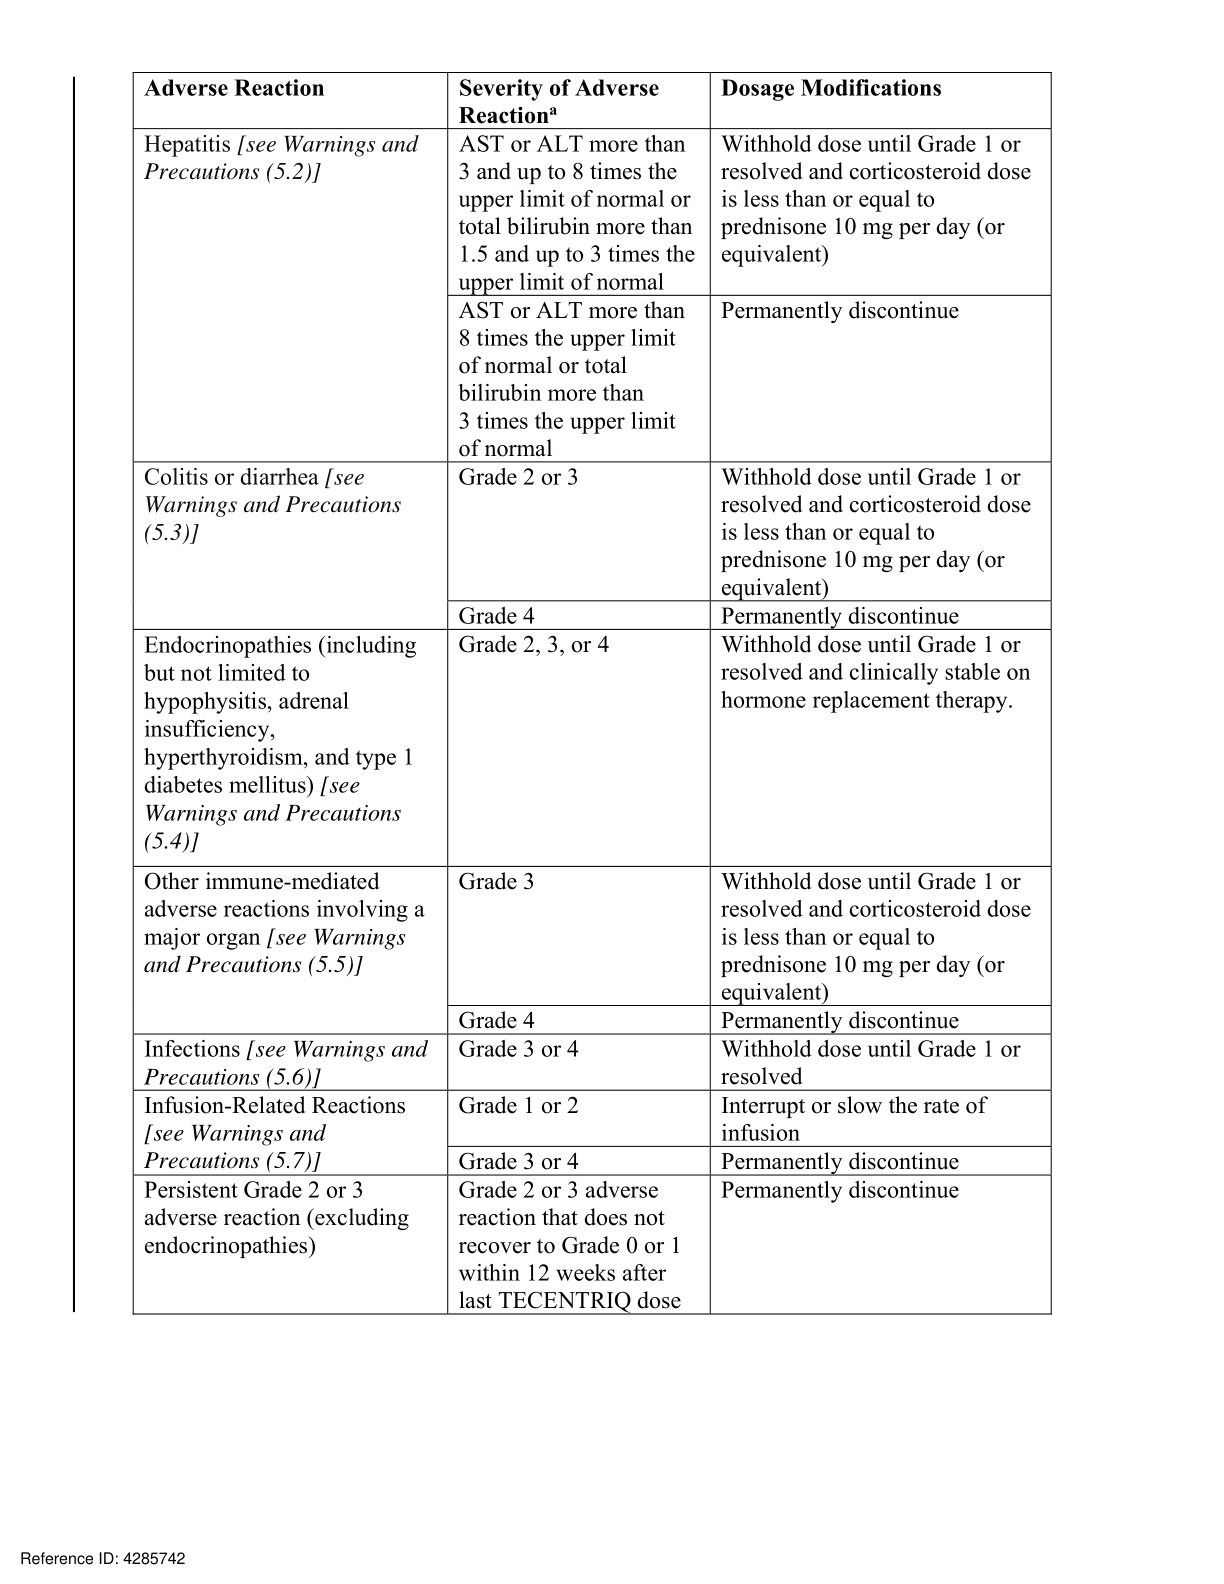merged_cells: (130, 69, 1053, 1317)
